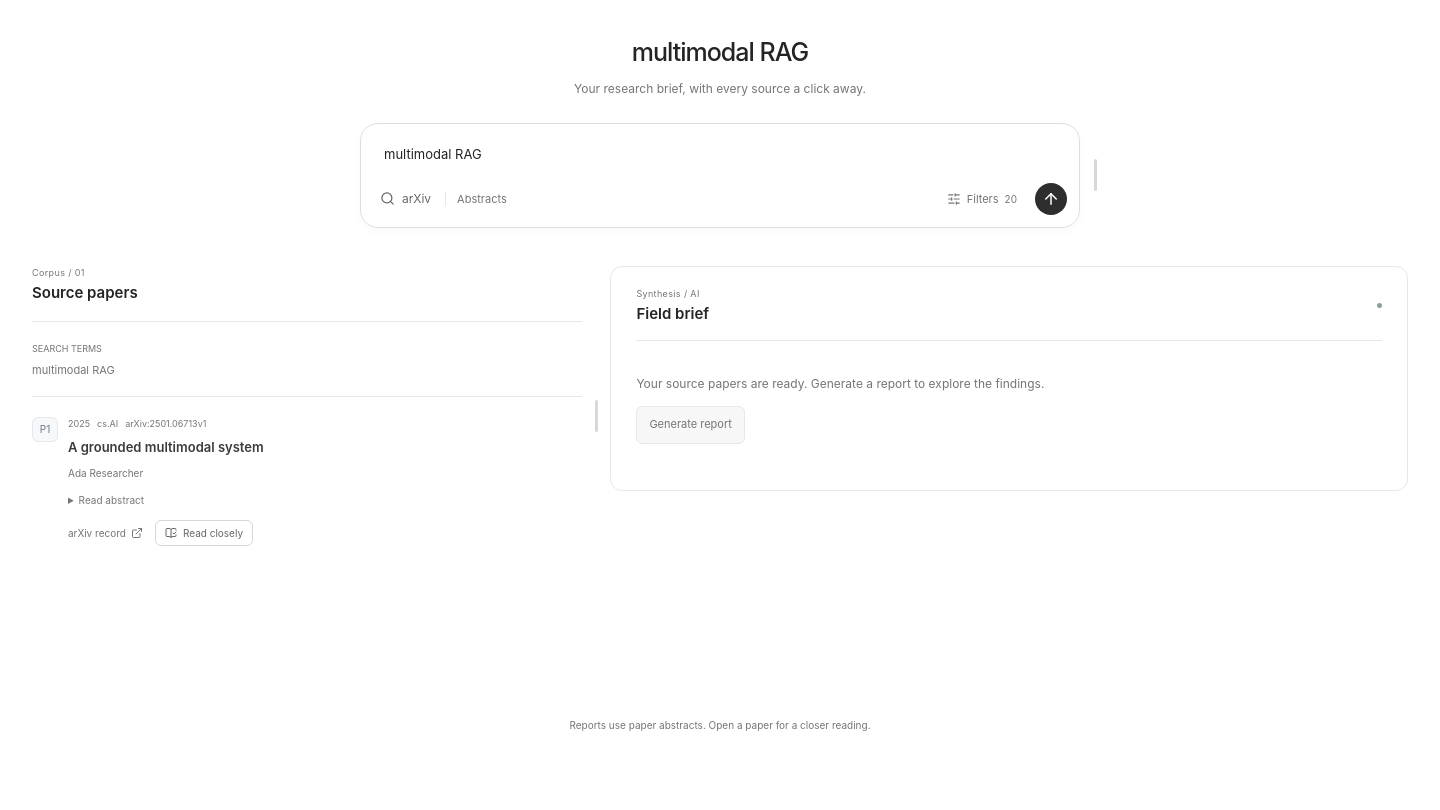
ResearchDesk › can finish a saved exploration that has no report
Step 1. Click the button "Generate report" → {"x": 691, "y": 425}, box [636,406,745,444]
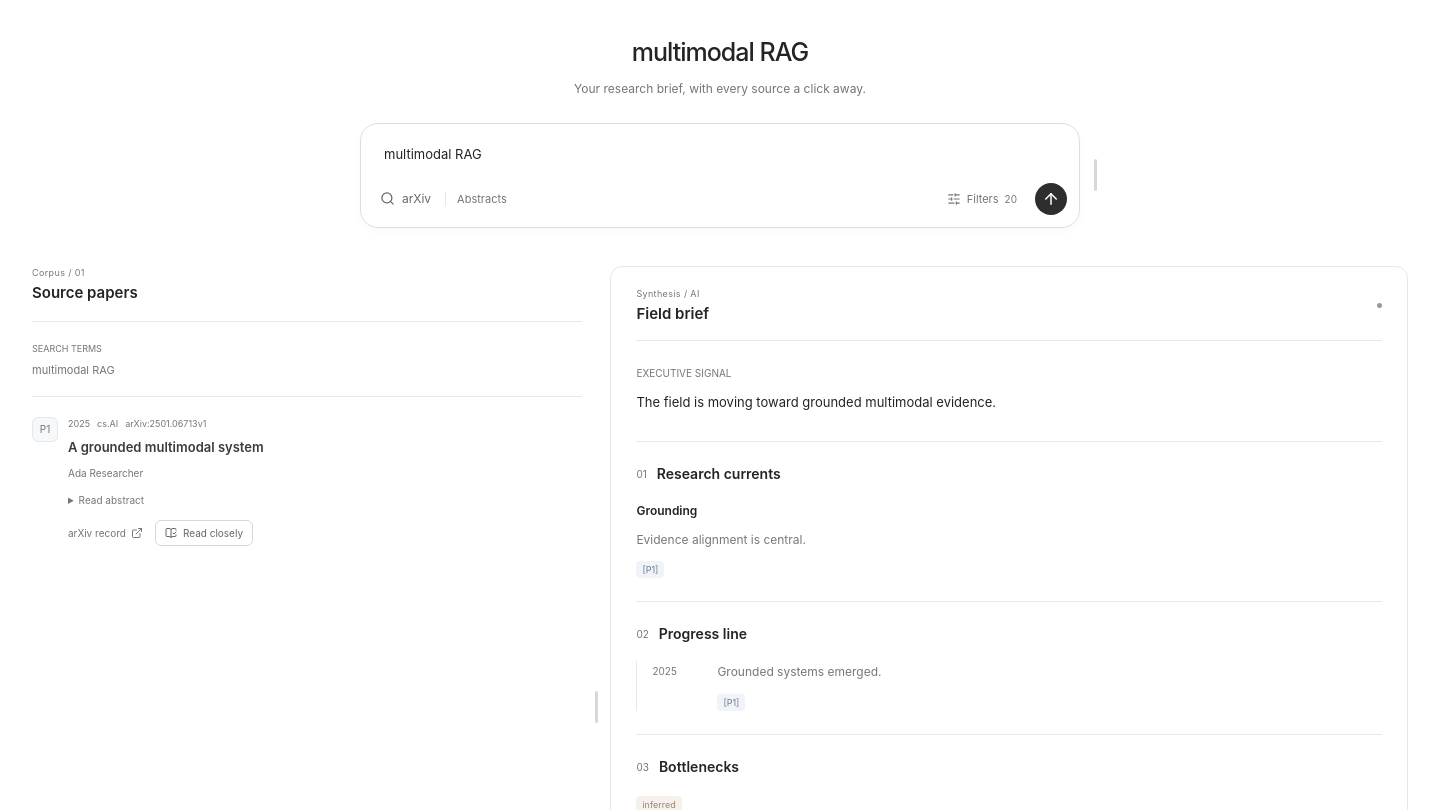
expect the text "The field is moving toward grounded multimodal evidence." is shown: met, box [636,394,996,410]
